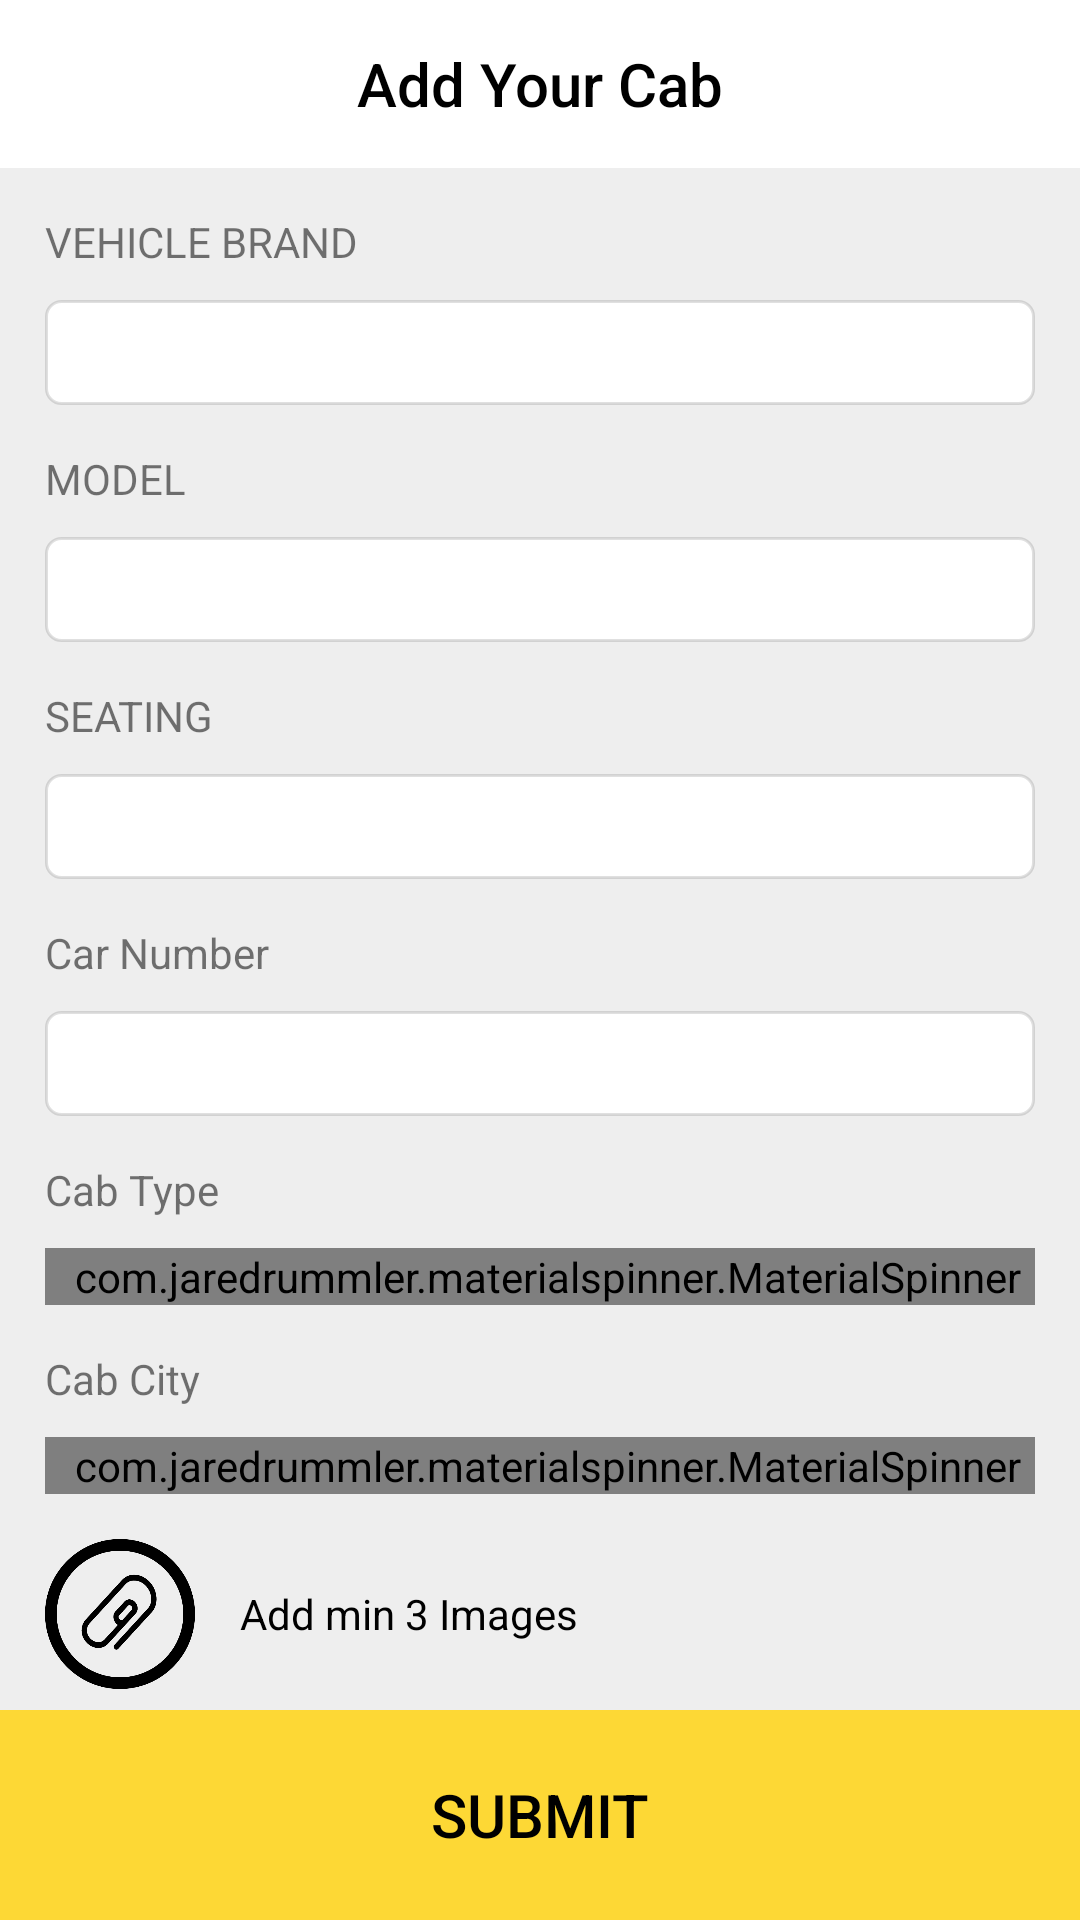

Named icons in this screenshot (1080px x 1920px) and their bounding boxes, {"x1": x1, "y1": y1, "x2": x2, "y2": y2}:
attach: {"x1": 45, "y1": 1539, "x2": 195, "y2": 1689}
